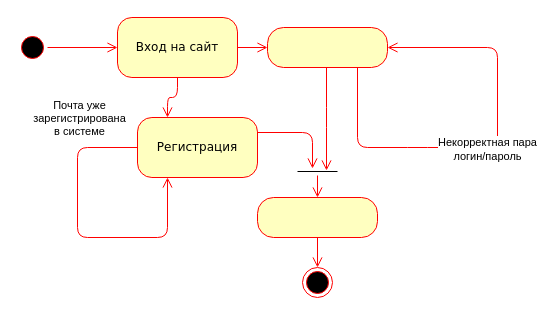
Some shapes in this 554 by 315 pixel diagram are drawn without their labels. The shapes that lost their labels are listed below. From the top down, each one's centre as x and y in pixels, then its label:
(327,47): Авторизация
(317,217): Показать главную страницу
